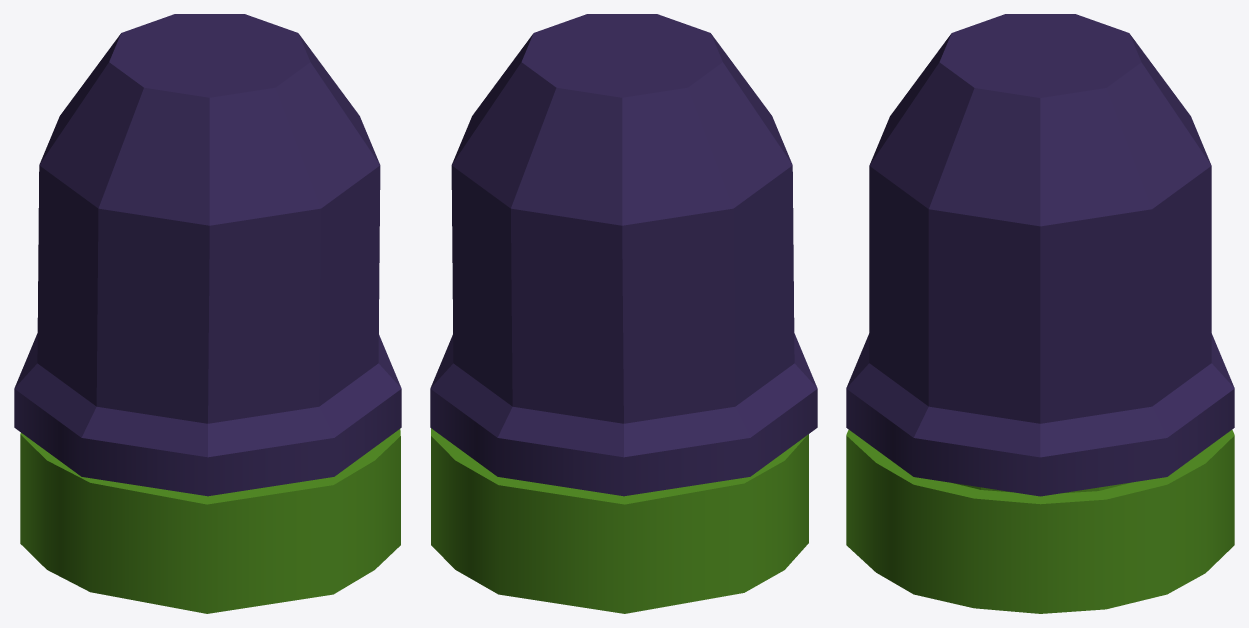
Rendered from Light low poly fbx.fbx.
The picture shows the model from 3 angles, left to right: view 1: azimuth 30°, elevation 25°; view 2: azimuth 150°, elevation 25°; view 3: azimuth 270°, elevation 25°; orthographic projection.
Parts seen in each view (by area): view 1: Low Poly Cap, Low Poly Bottom; view 2: Low Poly Cap, Low Poly Bottom; view 3: Low Poly Cap, Low Poly Bottom.
Part boxes in pixels (<box>): Low Poly Cap: <box>14,14,401,496</box>; Low Poly Bottom: <box>20,429,400,613</box>; Low Poly Cap: <box>430,14,817,496</box>; Low Poly Bottom: <box>431,428,808,613</box>; Low Poly Cap: <box>846,14,1234,496</box>; Low Poly Bottom: <box>846,429,1234,613</box>.
Bounding box in the file's own units: 2.89 × 3.96 × 2.93.
